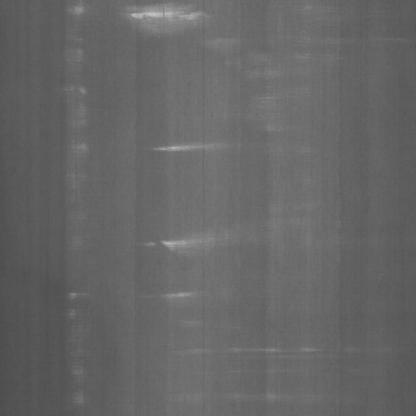waist_folding: (66, 20, 326, 412)
